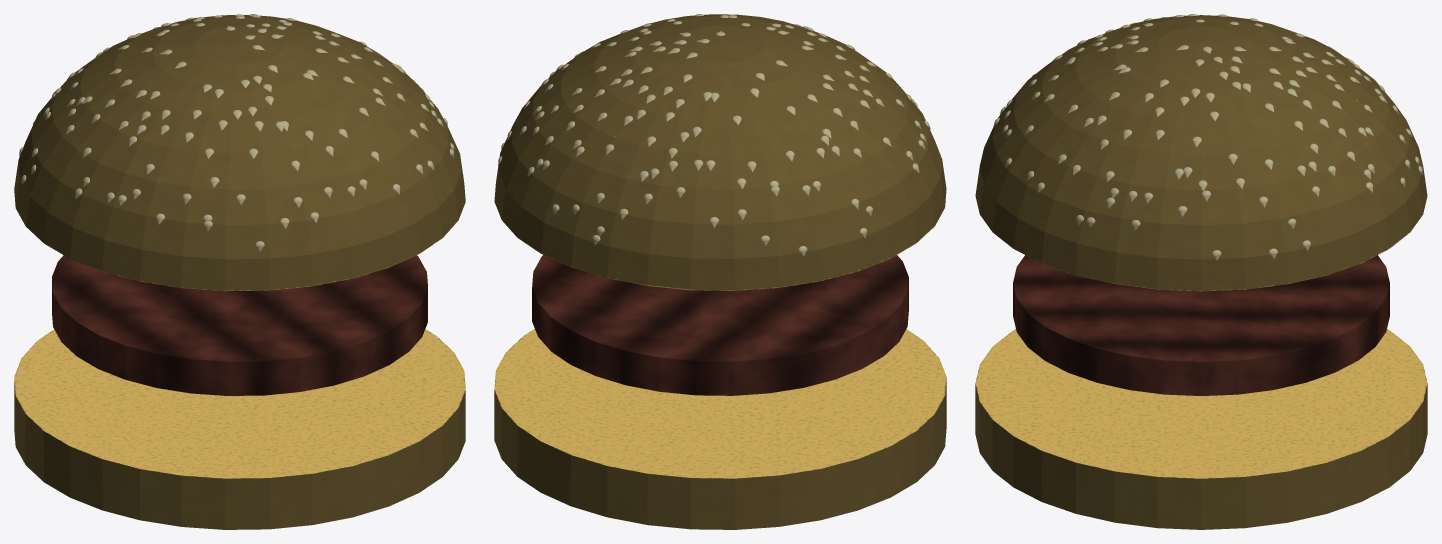
The model's file is burger 1.fbx.
3 views of the same model, side by side, from view 1: azimuth 30°, elevation 25°; view 2: azimuth 150°, elevation 25°; view 3: azimuth 270°, elevation 25° (orthographic).
Visible parts, largest first — view 1: bun top, bun bottom, patty; view 2: bun top, bun bottom, patty; view 3: bun top, bun bottom, patty.
Boxes of the visible parts, left/top/right/bottom form: bun top: left=14, top=14, right=465, bottom=291; bun bottom: left=14, top=329, right=465, bottom=529; patty: left=52, top=255, right=427, bottom=395; bun top: left=494, top=14, right=946, bottom=290; bun bottom: left=494, top=329, right=946, bottom=529; patty: left=532, top=255, right=908, bottom=395; bun top: left=975, top=14, right=1427, bottom=291; bun bottom: left=975, top=329, right=1427, bottom=529; patty: left=1013, top=255, right=1389, bottom=395.
Size of the model in its own units: 240 by 230 by 240.
Materials: 5 (3 with a texture image).
